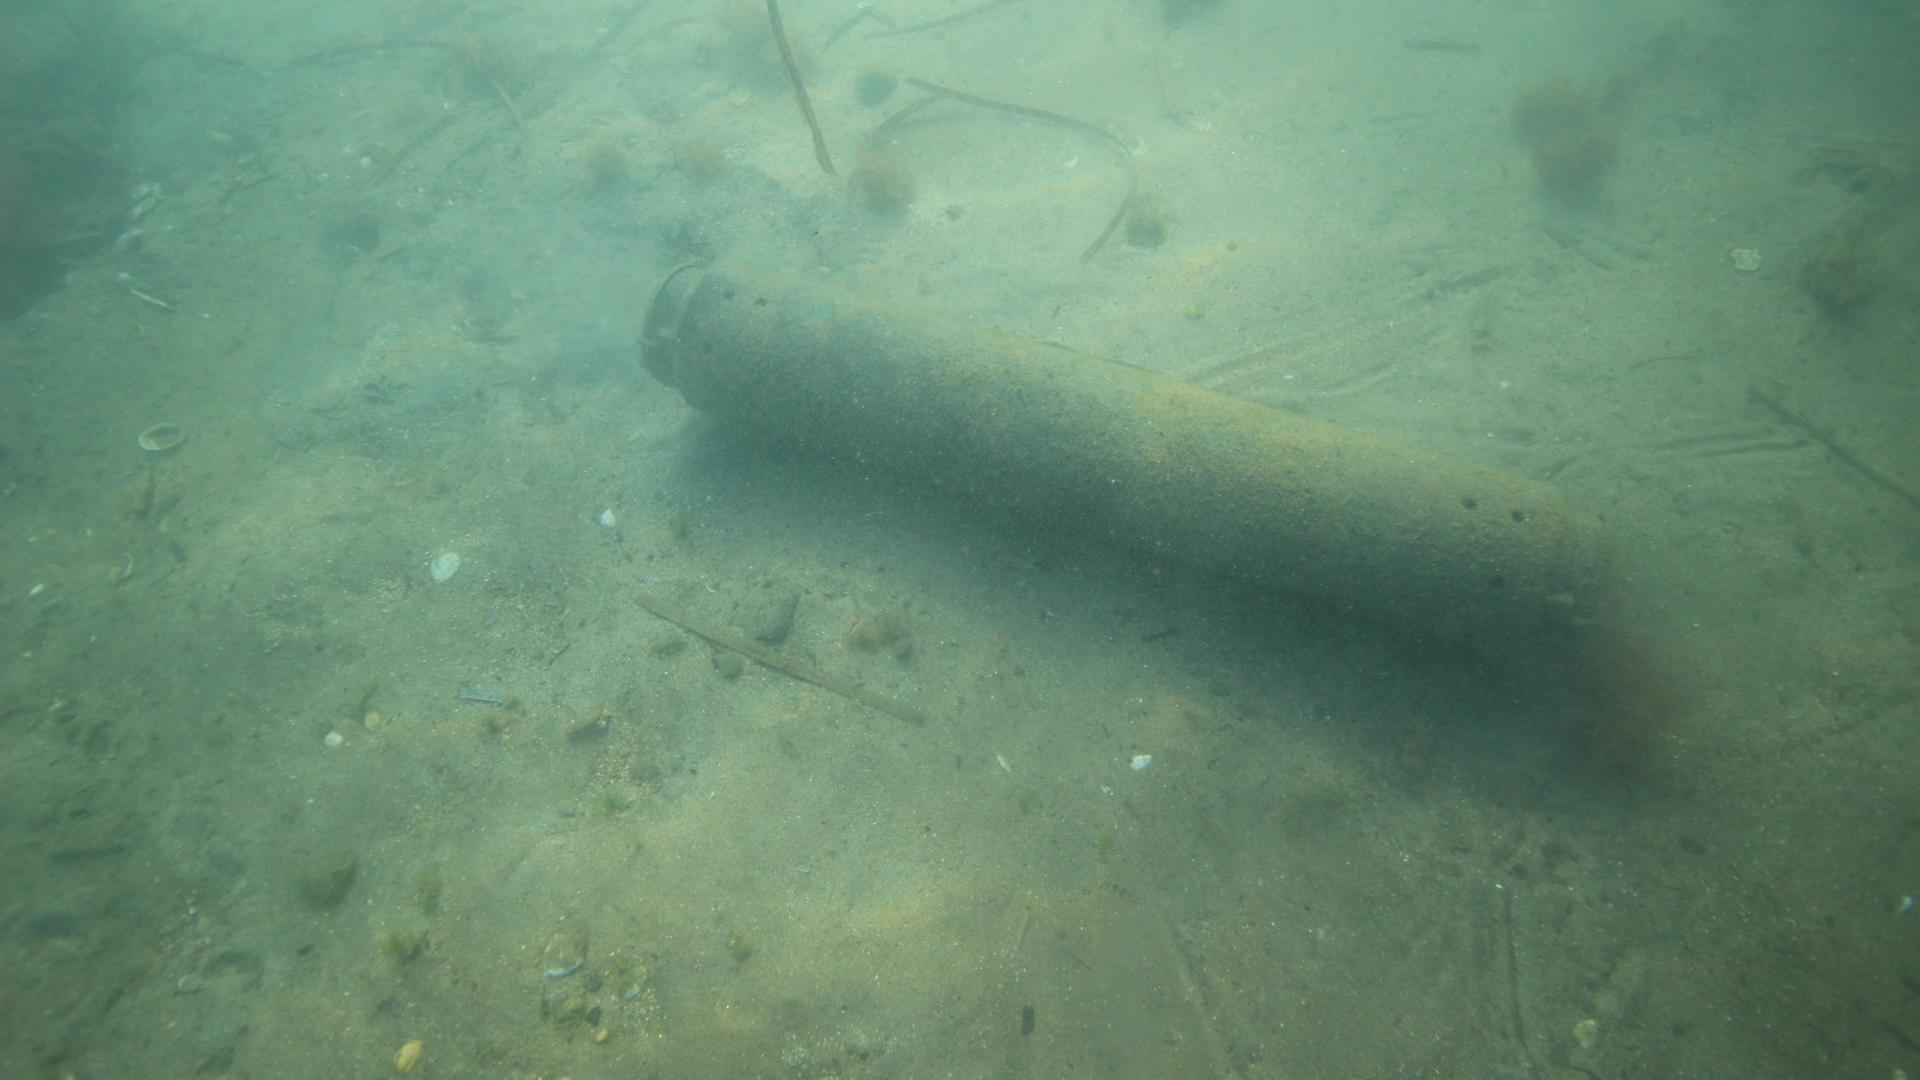eel fish trap: (638, 262, 1611, 665)
